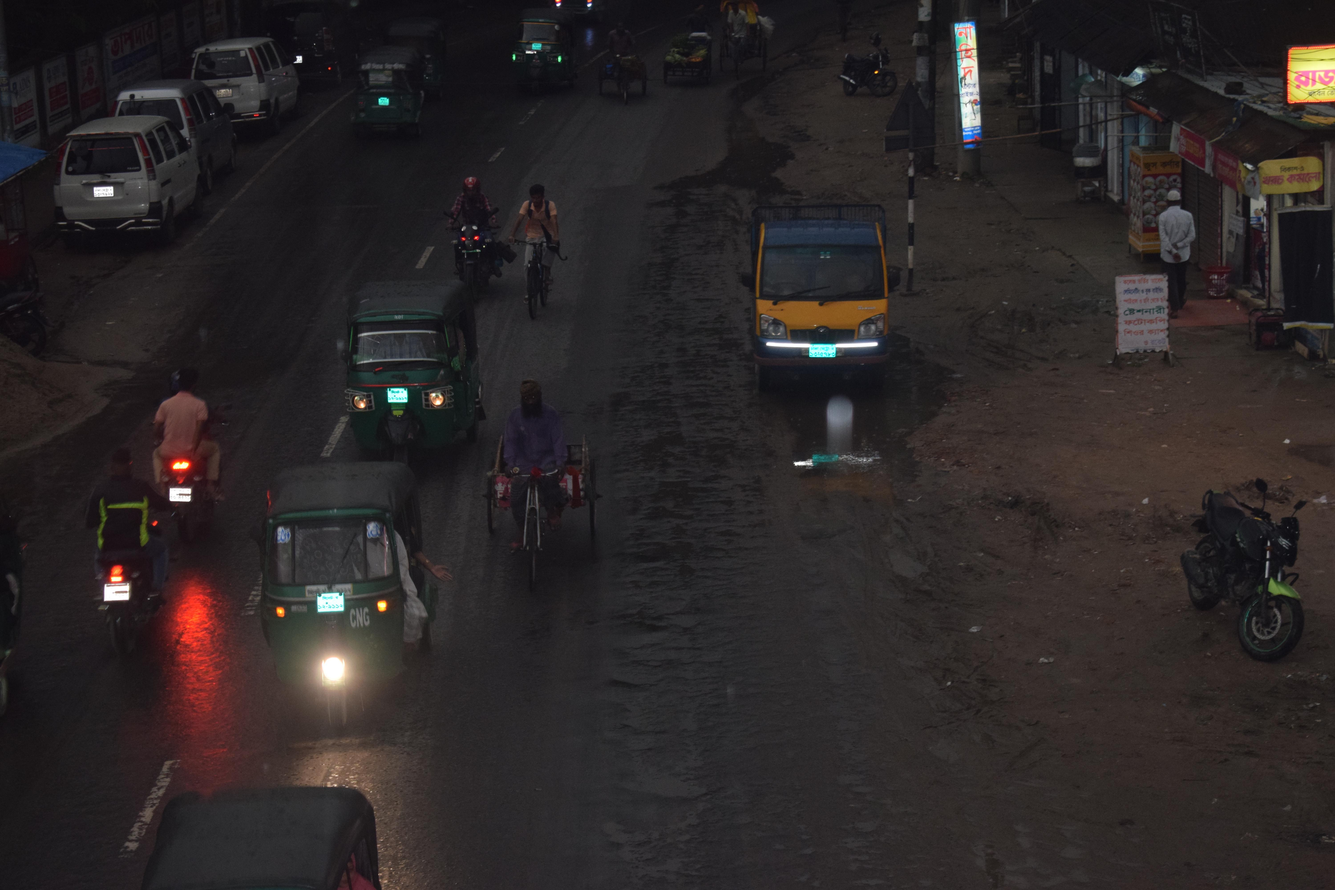Bike: (1142, 435, 1335, 686), (51, 431, 206, 658), (110, 362, 252, 533), (417, 154, 534, 312), (494, 175, 583, 342), (825, 29, 916, 117)
Car: (451, 377, 634, 595), (12, 99, 210, 268), (178, 25, 326, 158), (103, 68, 253, 189)
Truck: (690, 157, 933, 446)
